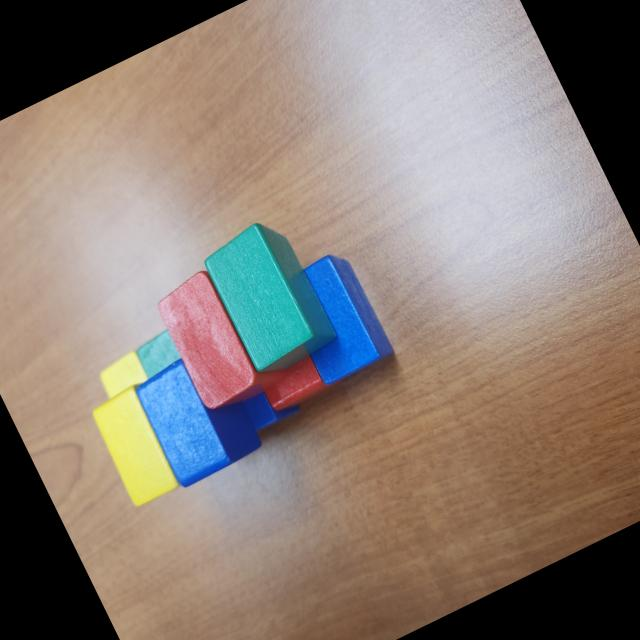blue: (129, 342, 266, 490), (272, 246, 398, 390), (238, 378, 303, 436)
green: (196, 212, 342, 380), (130, 326, 187, 381)
red: (149, 255, 291, 418), (252, 333, 348, 418)
yellow: (85, 384, 182, 510), (92, 346, 152, 402)
